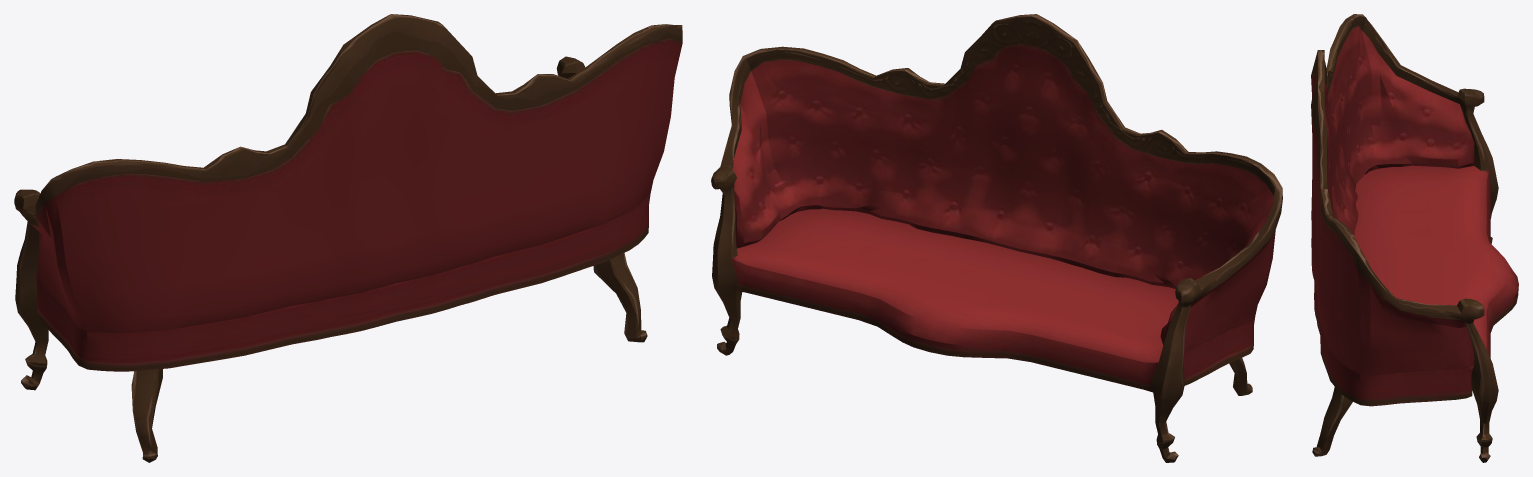
File: sofa-camelback.glb
3 renders of one model, left to right at view 1: azimuth 30°, elevation 25°; view 2: azimuth 150°, elevation 25°; view 3: azimuth 270°, elevation 25°, orthographic. The views are drawn at different scales.
Visible parts, largest first — view 1: sofa-camelback; view 2: sofa-camelback; view 3: sofa-camelback.
Boxes of the visible parts, <box> form: sofa-camelback: <box>14,14,682,462</box>; sofa-camelback: <box>711,14,1282,462</box>; sofa-camelback: <box>1311,14,1518,462</box>.
Size of the model in its own units: 2.48 by 1.43 by 0.8748.
Materials: 1 (1 with a texture image).
